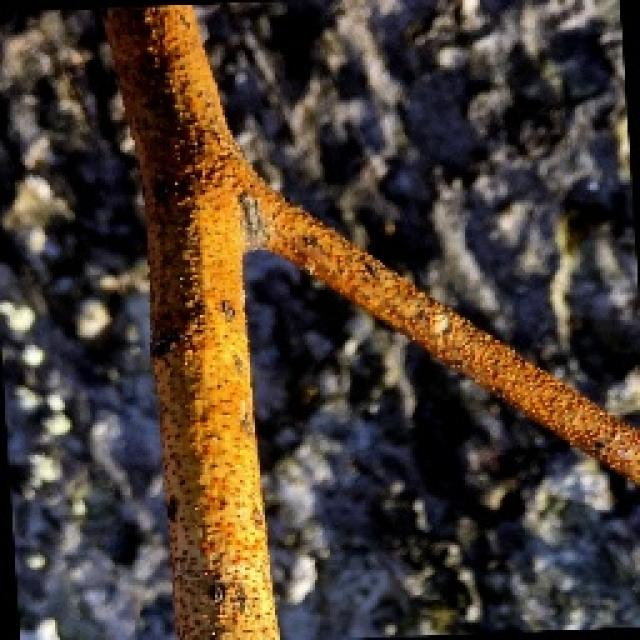Golden_canker: (95, 0, 637, 638)
